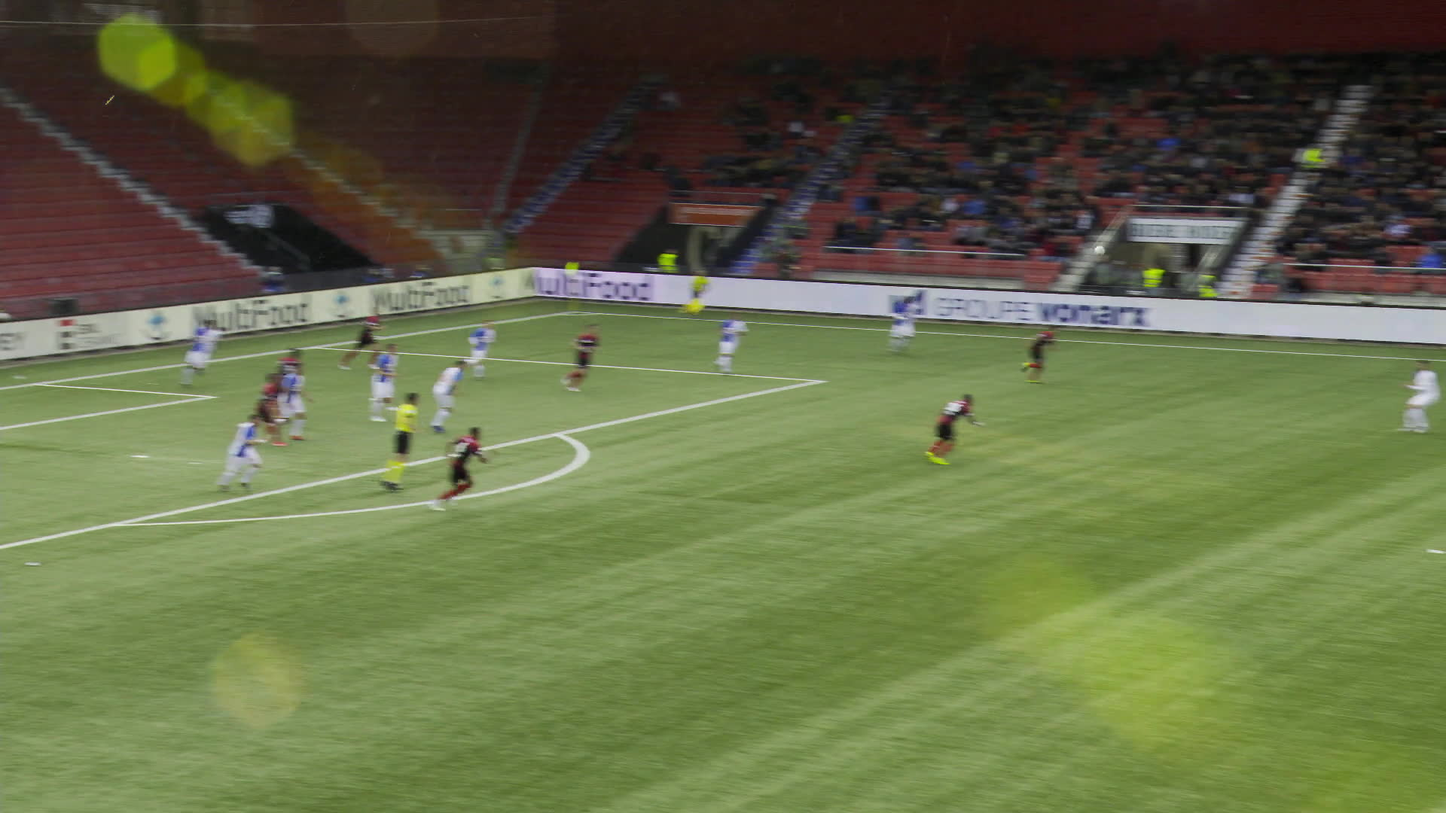ball: (1094, 246, 1104, 255)
player: (933, 392, 1006, 467), (453, 425, 512, 513), (281, 364, 331, 442), (240, 414, 282, 495), (176, 320, 223, 392), (447, 360, 490, 434), (380, 341, 419, 422), (577, 322, 621, 393), (1398, 358, 1439, 434), (264, 374, 307, 446), (1031, 323, 1078, 385), (363, 309, 404, 372), (477, 318, 517, 379), (294, 349, 327, 417), (734, 312, 767, 374), (908, 297, 939, 356)
referee: (394, 395, 446, 492), (699, 271, 725, 318)
